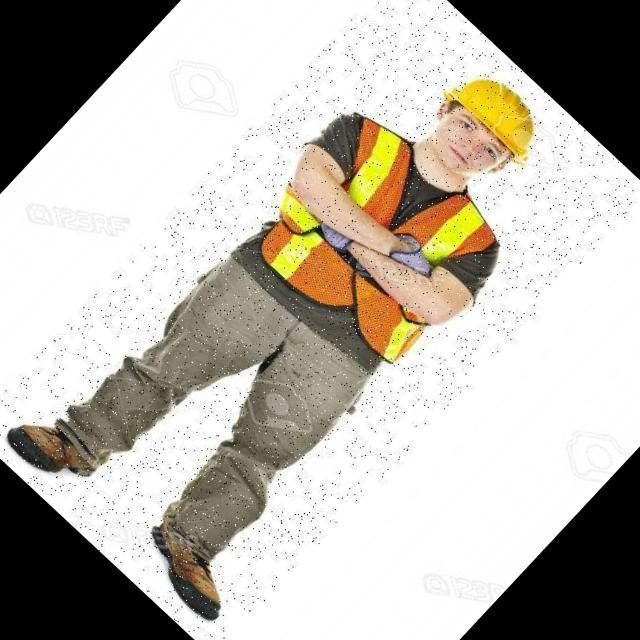hard_hat: (438, 56, 556, 172)
safety_vest: (238, 100, 516, 377)
vehicle: (0, 0, 640, 640)
work_boots: (128, 517, 242, 628), (0, 402, 101, 502)
